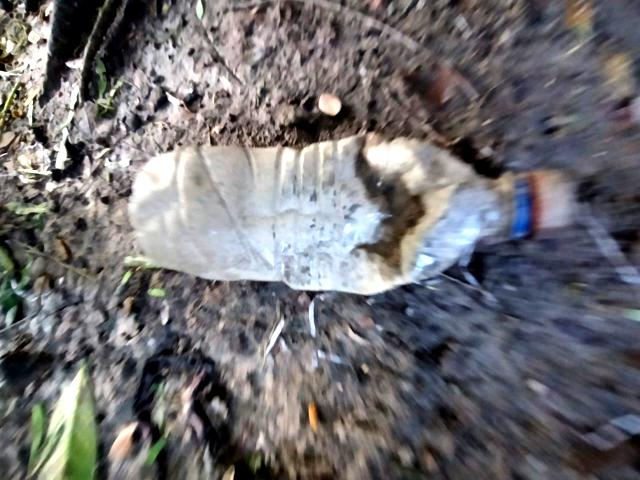bottle: (137, 131, 553, 313)
